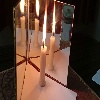fire: (42, 1, 48, 50)
